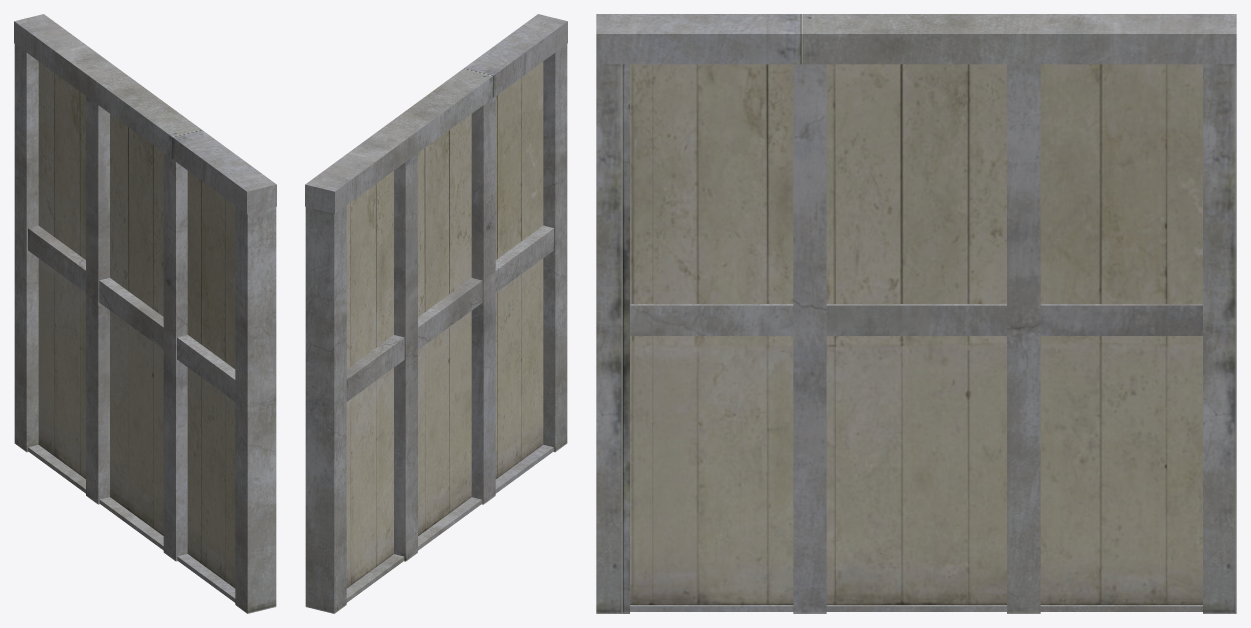
File: fund_pillar_02.fbx
The picture shows the model from 3 angles, left to right: view 1: azimuth 30°, elevation 25°; view 2: azimuth 150°, elevation 25°; view 3: azimuth 270°, elevation 25°; orthographic projection. The views are drawn at different scales.
Parts seen in each view (by area): view 1: fund_pillar_02; view 2: fund_pillar_02; view 3: fund_pillar_02.
Boxes of the visible parts, left/top/right/bottom form: fund_pillar_02: left=14, top=14, right=276, bottom=613; fund_pillar_02: left=305, top=14, right=567, bottom=613; fund_pillar_02: left=596, top=14, right=1236, bottom=613.
Bounding box in the file's own units: 0.0103 × 0.14 × 0.14.
